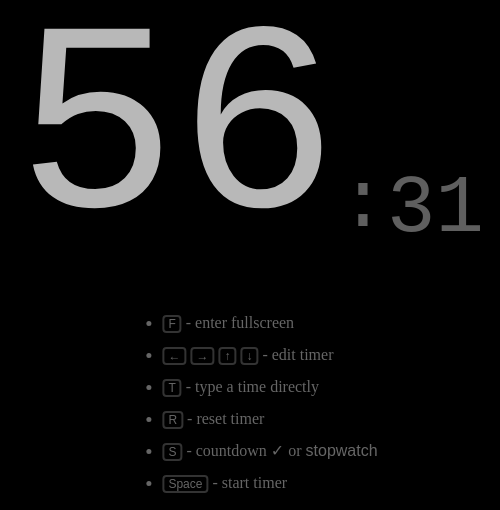
Test: quantizes countdown seconds while running between twenty minutes and one hour
Click the button "Space" at (185, 484), box left=162, top=475, right=208, bottom=493
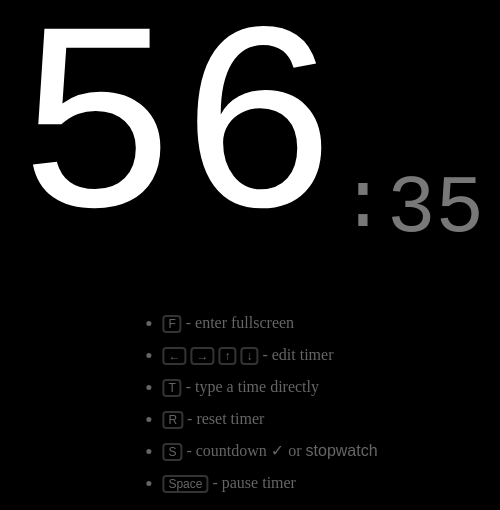
expect the element with class "clock" reads "56 : 35": met, box left=16, top=17, right=484, bottom=253
